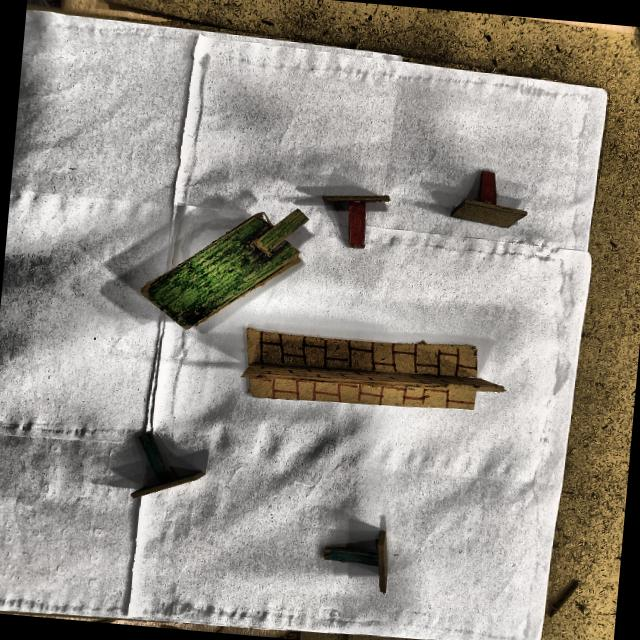Dead soldier -enemy-: (445, 168, 530, 232), (318, 186, 391, 251)
Dead soldier -frd-: (307, 524, 412, 596), (111, 431, 210, 500)
Tank: (134, 210, 307, 331)
Wall: (242, 328, 507, 412)
